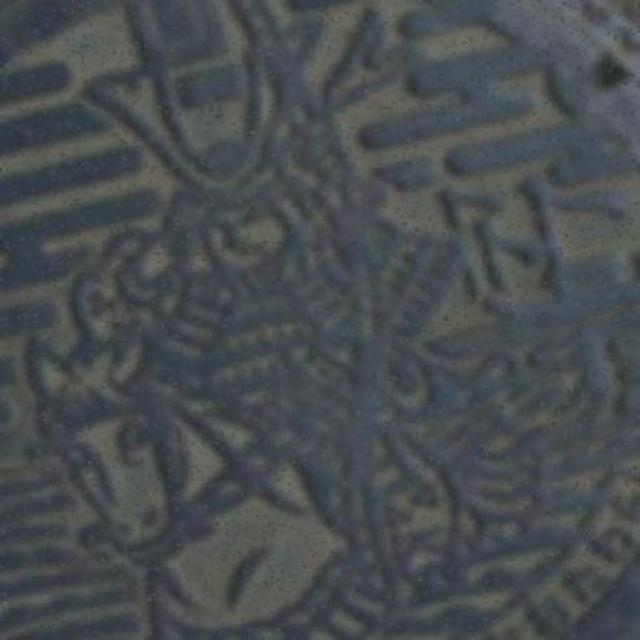Manhole: (4, 7, 638, 626)
